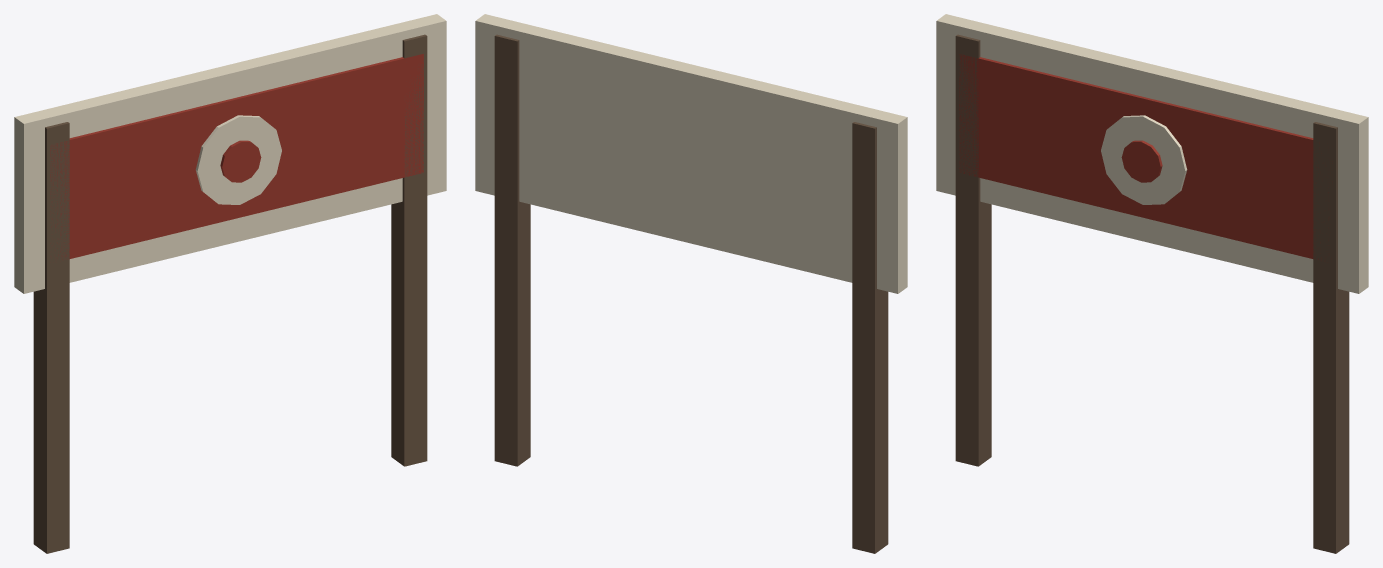
File: SM_StartSign.fbx
3 renders of one model, left to right at view 1: azimuth 30°, elevation 25°; view 2: azimuth 150°, elevation 25°; view 3: azimuth 330°, elevation 25°, orthographic.
Visible parts, largest first — view 1: StartSign; view 2: StartSign; view 3: StartSign.
Boxes of the visible parts, left/top/right/bottom form: StartSign: left=14, top=14, right=446, bottom=553; StartSign: left=475, top=14, right=907, bottom=553; StartSign: left=936, top=14, right=1368, bottom=553.
Size of the model in its own units: 260 by 19 by 255.
